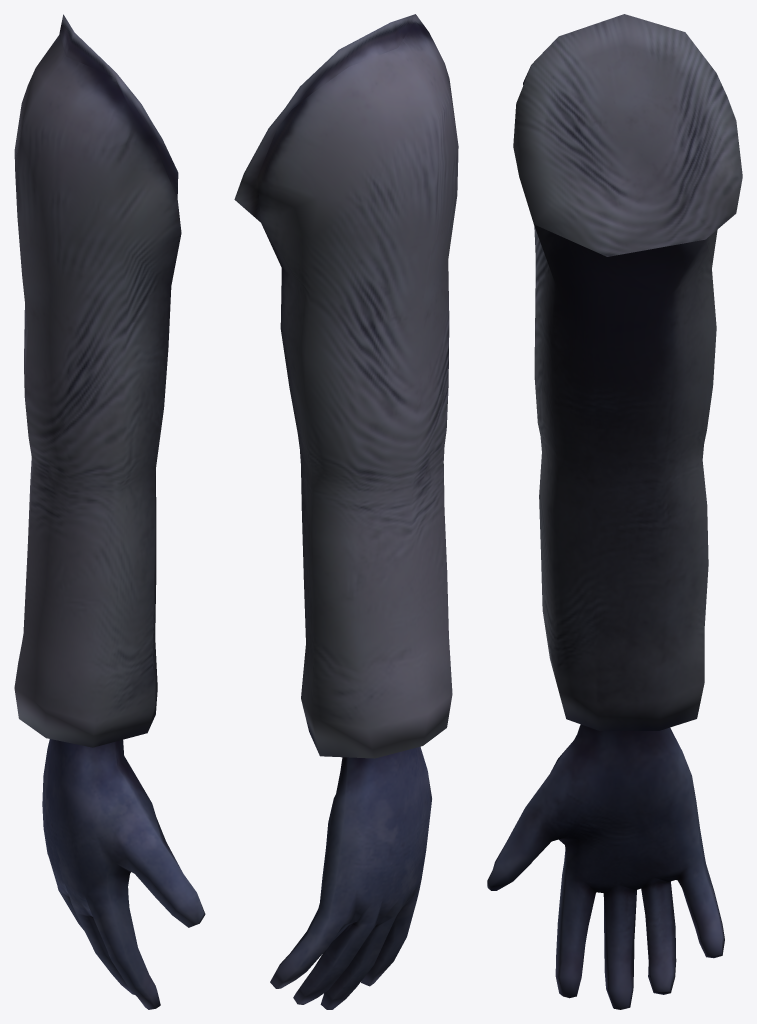
The model's file is GWJ62-J_CharacterArm.glb.
3 views of the same model, side by side, from view 1: azimuth 30°, elevation 25°; view 2: azimuth 150°, elevation 25°; view 3: azimuth 270°, elevation 25° (orthographic). The views are drawn at different scales.
Visible parts, largest first — view 1: Character_Arm; view 2: Character_Arm; view 3: Character_Arm.
Part boxes in pixels (<box>): Character_Arm: <box>14,14,205,1009</box>; Character_Arm: <box>234,14,458,1009</box>; Character_Arm: <box>487,14,742,1009</box>.
Bounding box in the file's own units: 0.1193 × 0.7506 × 0.1798.
Materials: 1 (1 with a texture image).
